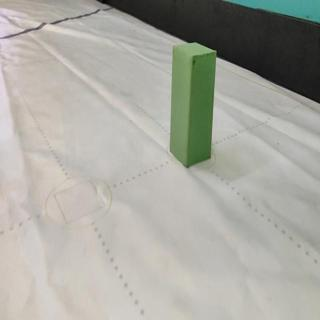greenbox: (169, 42, 215, 168)
